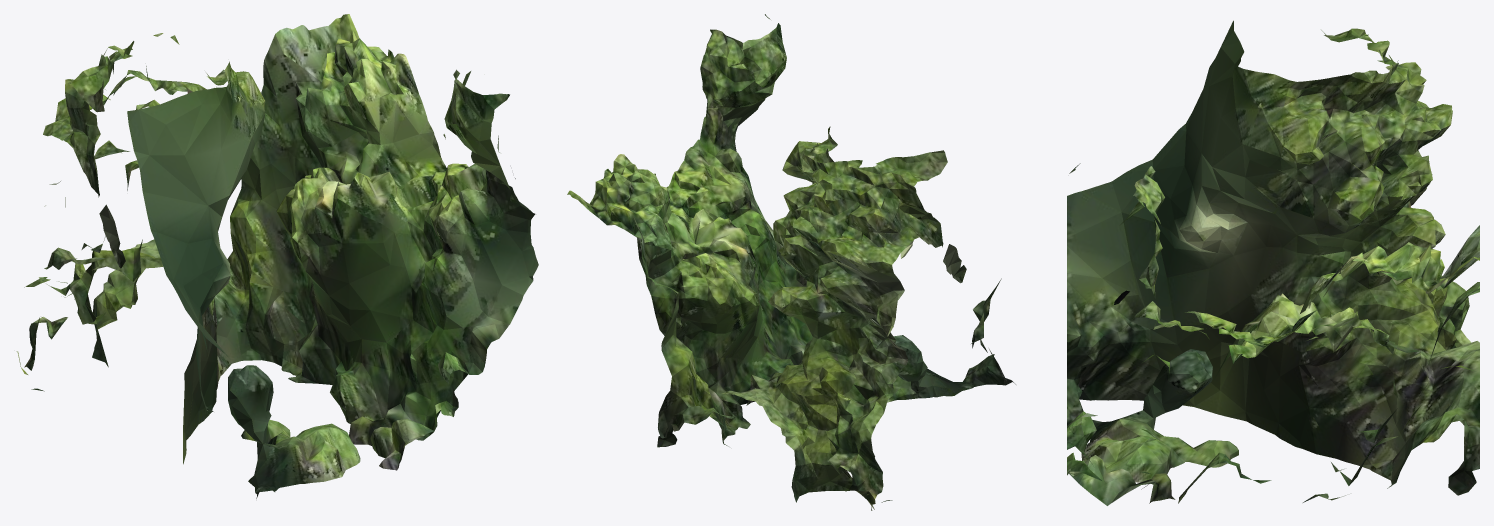
The picture shows the model from 3 angles, left to right: view 1: azimuth 30°, elevation 25°; view 2: azimuth 150°, elevation 25°; view 3: azimuth 270°, elevation 25°; orthographic projection. The views are drawn at different scales.
Size of the model in its own units: 26.11 by 26.11 by 26.11.
Materials: 7 (7 with a texture image).
